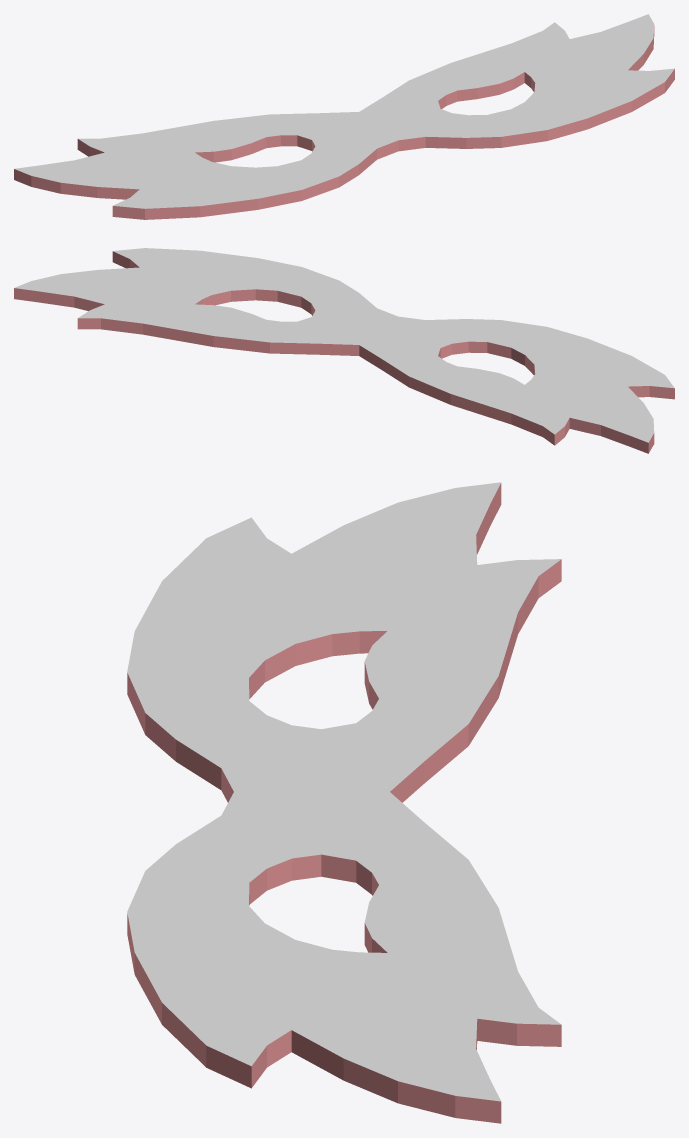
Rendered from Carnival _Mask_03.fbx.
The picture shows the model from 3 angles, top to bottom: view 1: azimuth 30°, elevation 25°; view 2: azimuth 150°, elevation 25°; view 3: azimuth 270°, elevation 25°; orthographic projection. The views are drawn at different scales.
Visible parts, largest first — view 1: Carnival _Mask_03; view 2: Carnival _Mask_03; view 3: Carnival _Mask_03.
Boxes of the visible parts, x1=… form: Carnival _Mask_03: x1=14, y1=14, x2=674, y2=219; Carnival _Mask_03: x1=14, y1=248, x2=674, y2=453; Carnival _Mask_03: x1=127, y1=482, x2=561, y2=1123.
Bounding box in the file's own units: 184 × 3.08 × 54.65.
